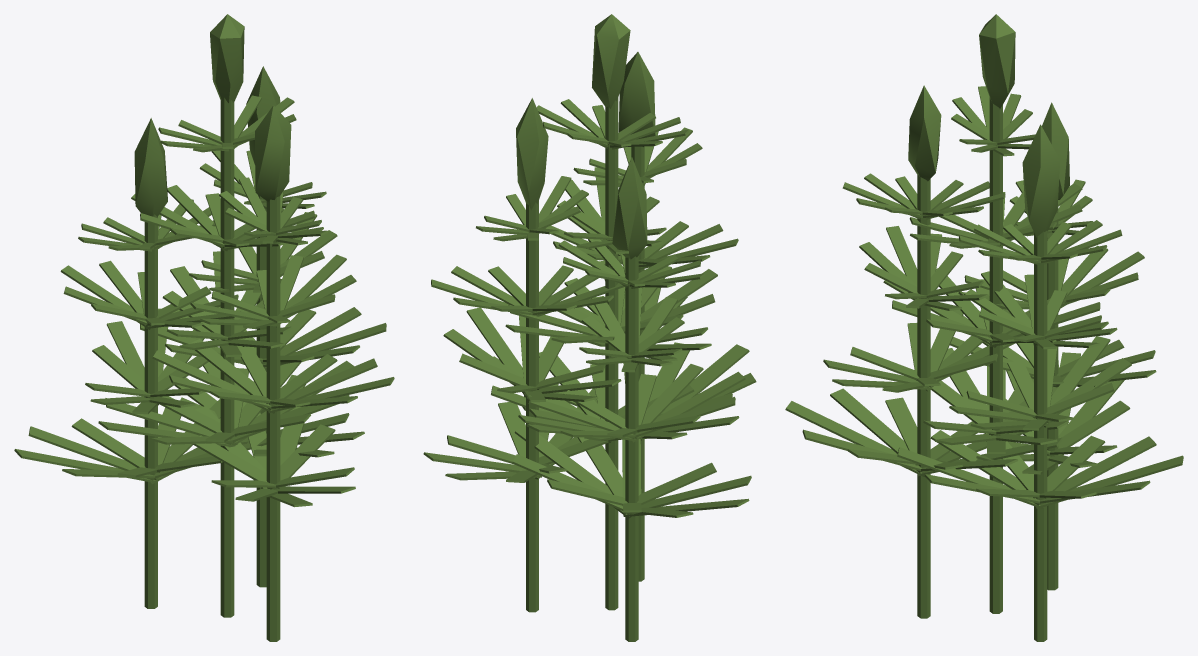
Rendered from pickup_hemp.glb.
3 views of the same model, side by side, from view 1: azimuth 30°, elevation 25°; view 2: azimuth 150°, elevation 25°; view 3: azimuth 270°, elevation 25° (orthographic).
Visible parts, largest first — view 1: cyl.003, cyl, cyl.002, blob.003, blob.002, blob, cyl.001, box.082, box.084, box.129, blob.001, box.056 (+28 smaller); view 2: cyl.002, cyl, cyl.001, blob, blob.001, blob.002, blob.003, box.085, cyl.003, box.055, box.120, box.091 (+44 smaller); view 3: cyl.003, cyl.001, cyl, blob.001, blob, blob.003, cyl.002, box.122, box.120, box.041, blob.002, box.050 (+29 smaller).
Boxes of the visible parts, box(x1,y1,x2,y2) form: cyl.003: box(266, 196, 280, 641); cyl: box(220, 97, 234, 617); cyl.002: box(144, 214, 157, 608); blob.003: box(255, 105, 291, 201); blob.002: box(134, 118, 167, 216); blob: box(210, 14, 244, 103); cyl.001: box(256, 194, 266, 587); box.082: box(28, 426, 153, 480); box.084: box(71, 418, 145, 467); box.129: box(277, 424, 335, 488); blob.001: box(246, 66, 280, 164); box.056: box(264, 307, 361, 368); cyl.002: box(625, 256, 638, 641); cyl: box(605, 97, 618, 610); cyl.001: box(526, 201, 538, 612); blob: box(592, 14, 630, 108); blob.001: box(516, 98, 548, 209); blob.002: box(612, 157, 647, 259); blob.003: box(618, 52, 655, 146); box.085: box(514, 425, 631, 518); cyl.003: box(631, 146, 644, 581); box.055: box(466, 307, 527, 398); box.120: box(640, 344, 749, 440); box.091: box(635, 364, 703, 438); cyl.003: box(917, 174, 930, 618); cyl.001: box(1034, 230, 1047, 641); cyl: box(989, 97, 1002, 613); blob.001: box(1022, 124, 1060, 237); blob: box(979, 14, 1015, 108); blob.003: box(908, 85, 941, 181); cyl.002: box(1047, 207, 1058, 590); box.122: box(830, 388, 921, 472); box.120: box(785, 401, 924, 476); box.041: box(1040, 436, 1156, 505); blob.002: box(1042, 102, 1069, 199); box.050: box(1044, 336, 1110, 427).
Size of the model in its own units: 0.6739 by 1.19 by 0.7183.
